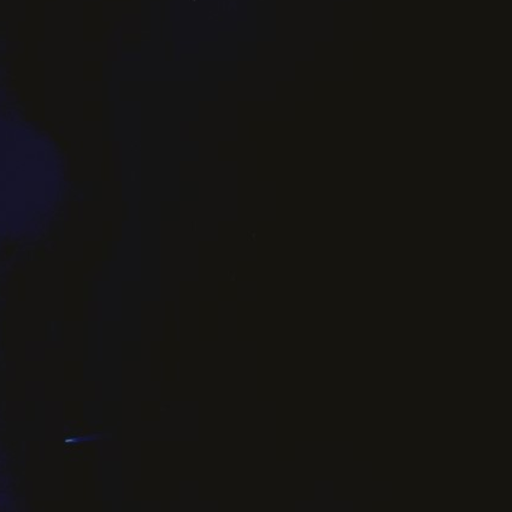ship: (61, 435, 80, 445)
